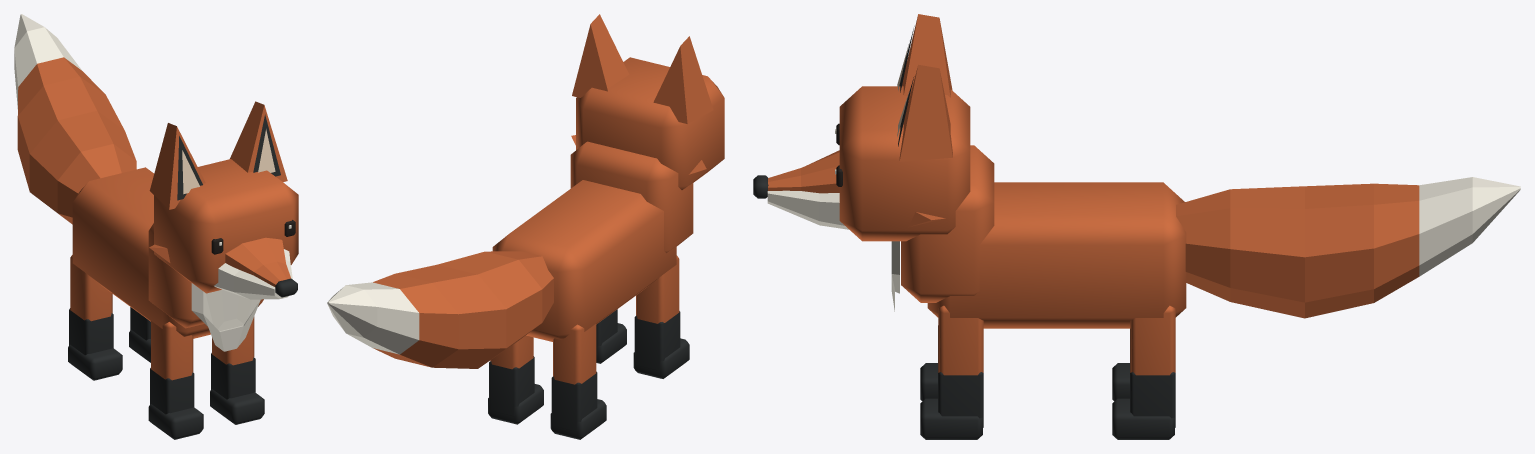
Rendered from komachi-fox.glb.
3 renders of one model, left to right at view 1: azimuth 30°, elevation 25°; view 2: azimuth 150°, elevation 25°; view 3: azimuth 270°, elevation 25°, orthographic. The views are drawn at different scales.
Parts seen in each view (by area): view 1: Tail_Red_Brush, Head, Body, White_Chest_Bib, Shoulder_Ruff, Tail_White_Tip, Red_Snout_Bridge, Left_Front_Upper_Leg, Left_Ear, Left_Rear_Upper_Leg, Right_Ear, Left_Rear_Black_Sock (+14 smaller); view 2: Body, Tail_Red_Brush, Head, Shoulder_Ruff, Tail_White_Tip, Left_Ear, Right_Ear, Left_Rear_Upper_Leg, Left_Front_Black_Sock, Left_Rear_Black_Sock, Right_Rear_Black_Sock, Left_Front_Upper_Leg (+6 smaller); view 3: Body, Tail_Red_Brush, Head, Shoulder_Ruff, Tail_White_Tip, Right_Ear, Right_Rear_Upper_Leg, Right_Front_Upper_Leg, Left_Ear, Right_Rear_Black_Sock, Right_Front_Black_Sock, White_Muzzle (+3 smaller).
Part boxes in pixels (bbox=[...]): Tail_Red_Brush: bbox=[17, 57, 136, 224]; Head: bbox=[154, 159, 298, 293]; Body: bbox=[72, 167, 210, 338]; White_Chest_Bib: bbox=[191, 283, 260, 351]; Shoulder_Ruff: bbox=[148, 223, 263, 328]; Tail_White_Tip: bbox=[14, 14, 82, 108]; Red_Snout_Bridge: bbox=[225, 237, 290, 286]; Left_Front_Upper_Leg: bbox=[151, 321, 193, 380]; Left_Ear: bbox=[149, 123, 205, 209]; Left_Rear_Upper_Leg: bbox=[70, 255, 112, 321]; Right_Ear: bbox=[230, 101, 287, 181]; Left_Rear_Black_Sock: bbox=[69, 308, 113, 355]; Body: bbox=[492, 180, 676, 341]; Tail_Red_Brush: bbox=[373, 251, 553, 368]; Head: bbox=[576, 57, 724, 189]; Shoulder_Ruff: bbox=[570, 141, 693, 252]; Tail_White_Tip: bbox=[327, 282, 419, 354]; Left_Ear: bbox=[653, 36, 713, 123]; Right_Ear: bbox=[572, 14, 629, 97]; Left_Rear_Upper_Leg: bbox=[553, 324, 596, 384]; Left_Front_Black_Sock: bbox=[634, 311, 680, 370]; Left_Rear_Black_Sock: bbox=[551, 371, 597, 431]; Right_Rear_Black_Sock: bbox=[489, 356, 534, 416]; Left_Front_Upper_Leg: bbox=[636, 255, 679, 323]; Body: bbox=[927, 182, 1186, 328]; Tail_Red_Brush: bbox=[1176, 183, 1419, 318]; Head: bbox=[839, 86, 970, 241]; Shoulder_Ruff: bbox=[901, 145, 994, 302]; Tail_White_Tip: bbox=[1419, 177, 1520, 276]; Right_Ear: bbox=[899, 64, 952, 161]; Right_Rear_Upper_Leg: bbox=[1130, 305, 1175, 375]; Right_Front_Upper_Leg: bbox=[938, 305, 983, 375]; Left_Ear: bbox=[902, 14, 952, 97]; Right_Rear_Black_Sock: bbox=[1130, 361, 1175, 427]; Right_Front_Black_Sock: bbox=[938, 361, 983, 427]; White_Muzzle: bbox=[767, 190, 849, 229].
Bounding box in the file's own units: 0.1473 × 0.311 × 0.5758.
